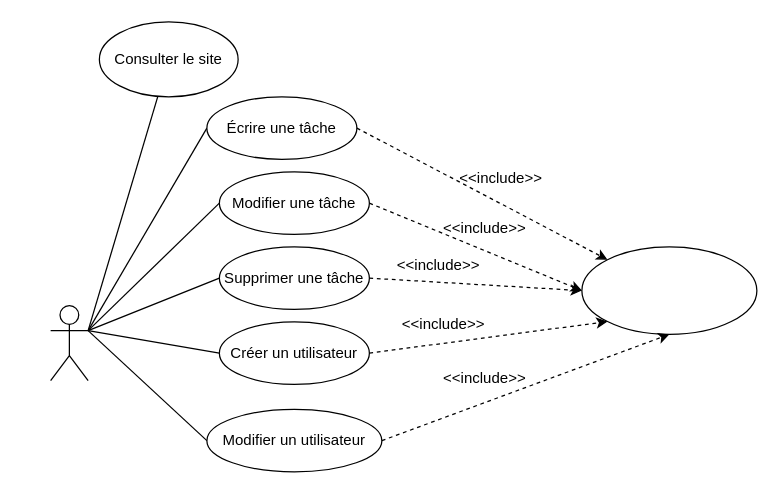
Some shapes in this 779 by 494 pixel diagram are drawn without their labels. Here are the shapes that lost their labels. From the top down, the centre of each, then its label:
pixel 669 290: S'authentifier
pixel 68 342: Administrateur
